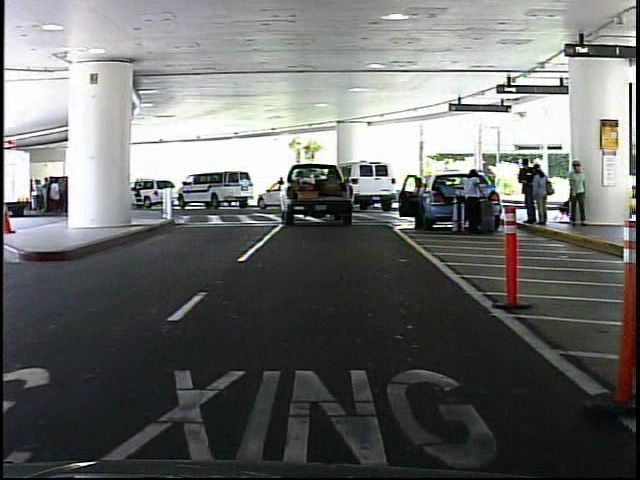person: (456, 166, 488, 239), (562, 159, 590, 232)
